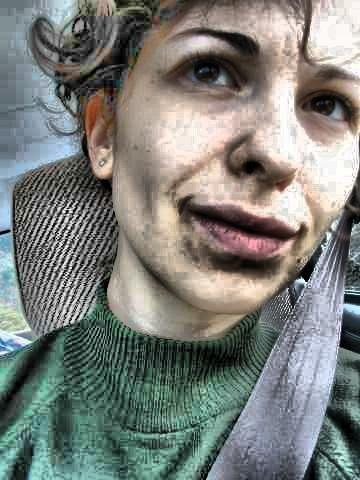seatbelt: (208, 205, 357, 474)
